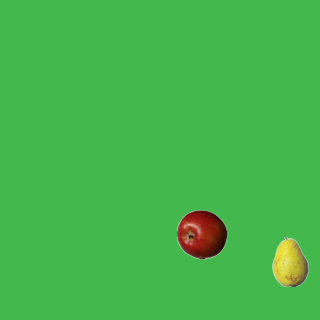Apple Braeburn: (176, 209, 226, 259)
Pear Monster: (265, 236, 315, 286)
